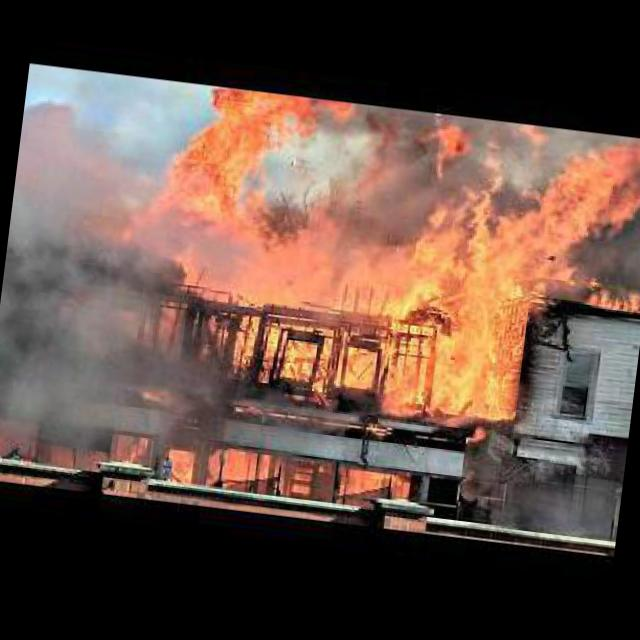fire: (125, 79, 640, 444)
smoke: (0, 96, 218, 469)
